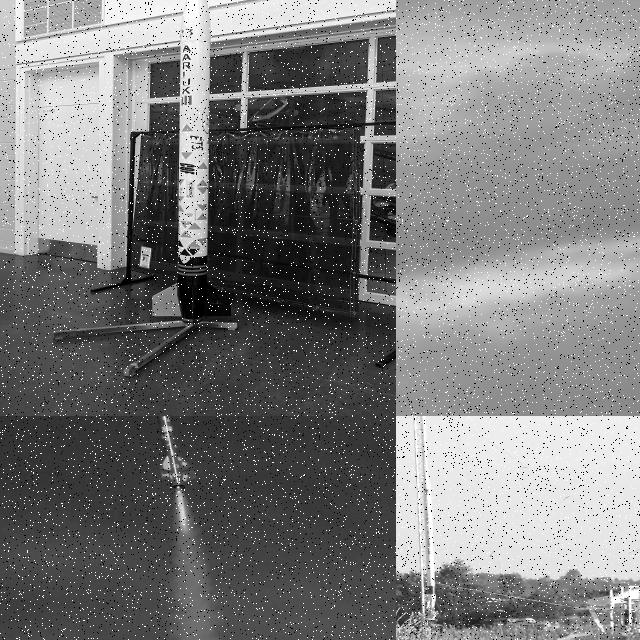Rocket: (152, 0, 232, 320), (139, 416, 198, 490), (422, 479, 441, 614)
